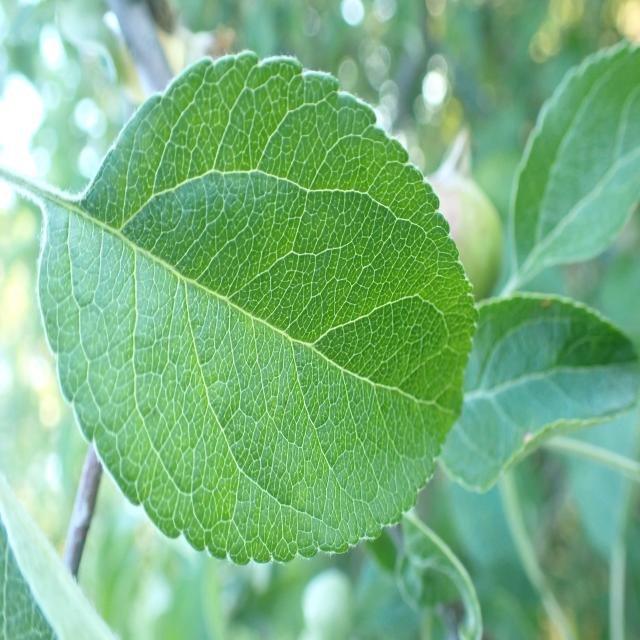healthy: (15, 46, 478, 566), (438, 292, 640, 494), (509, 38, 640, 284)
